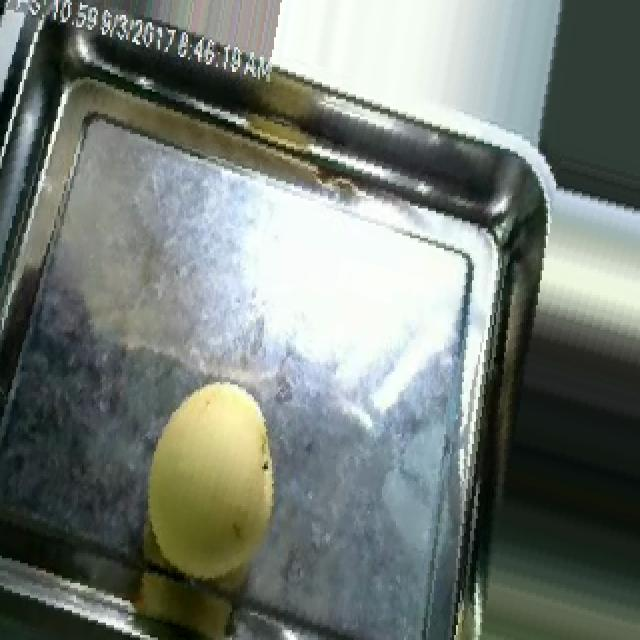Fruit: (106, 364, 308, 612)
